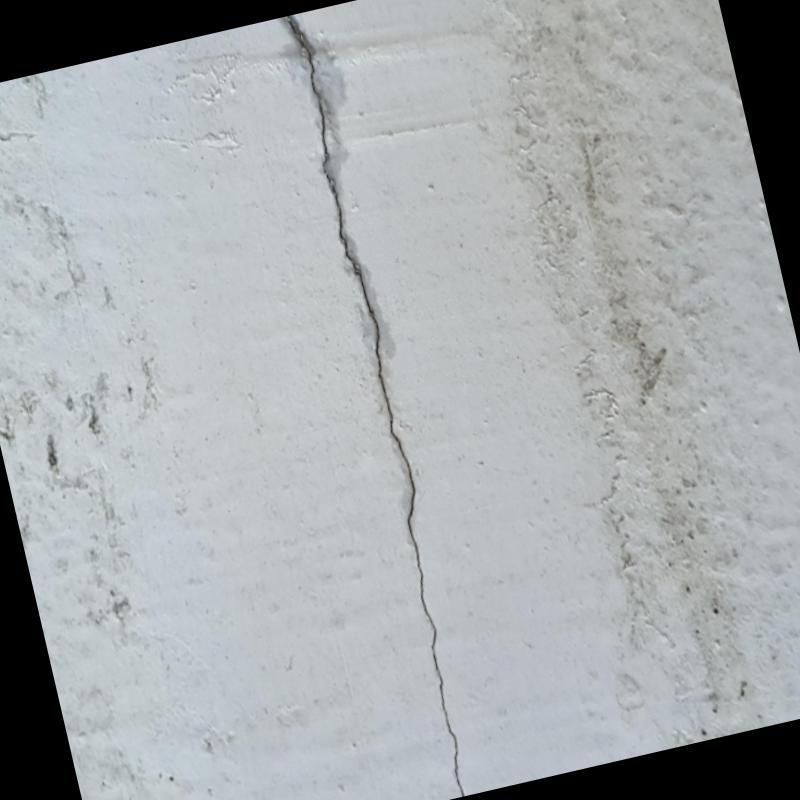pothole: (284, 19, 467, 791)
